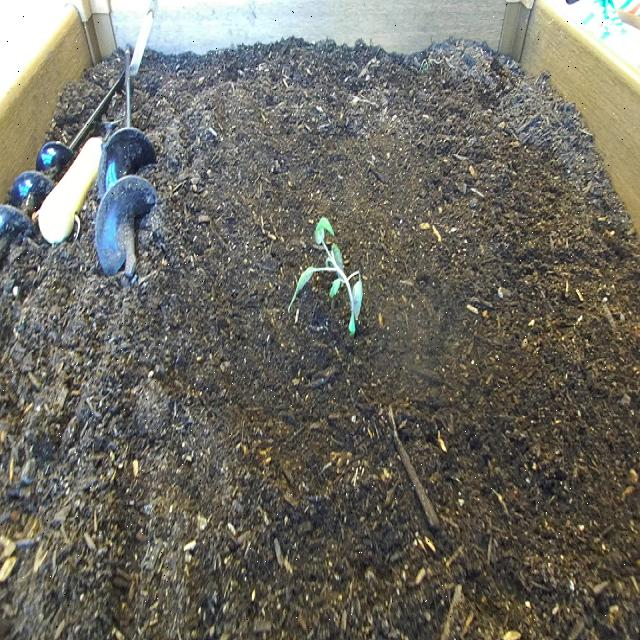Healthy: (285, 214, 367, 337)
